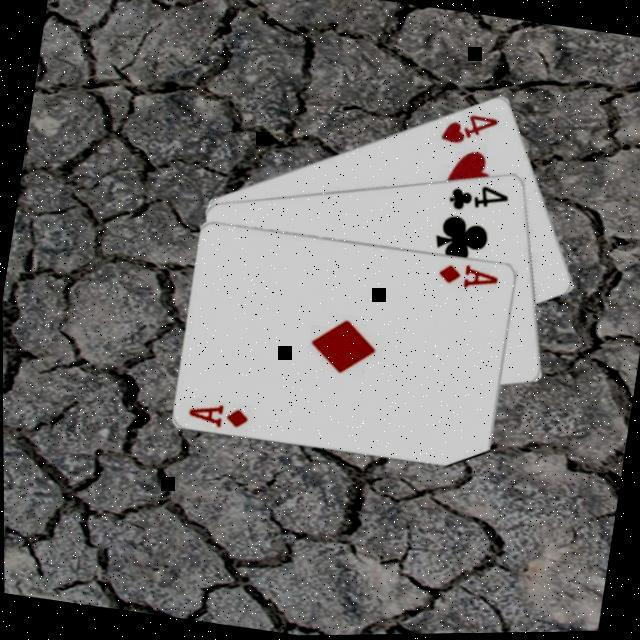4C: (442, 179, 511, 224)
4H: (434, 108, 500, 156)
AD: (182, 397, 250, 436), (432, 260, 500, 298)
